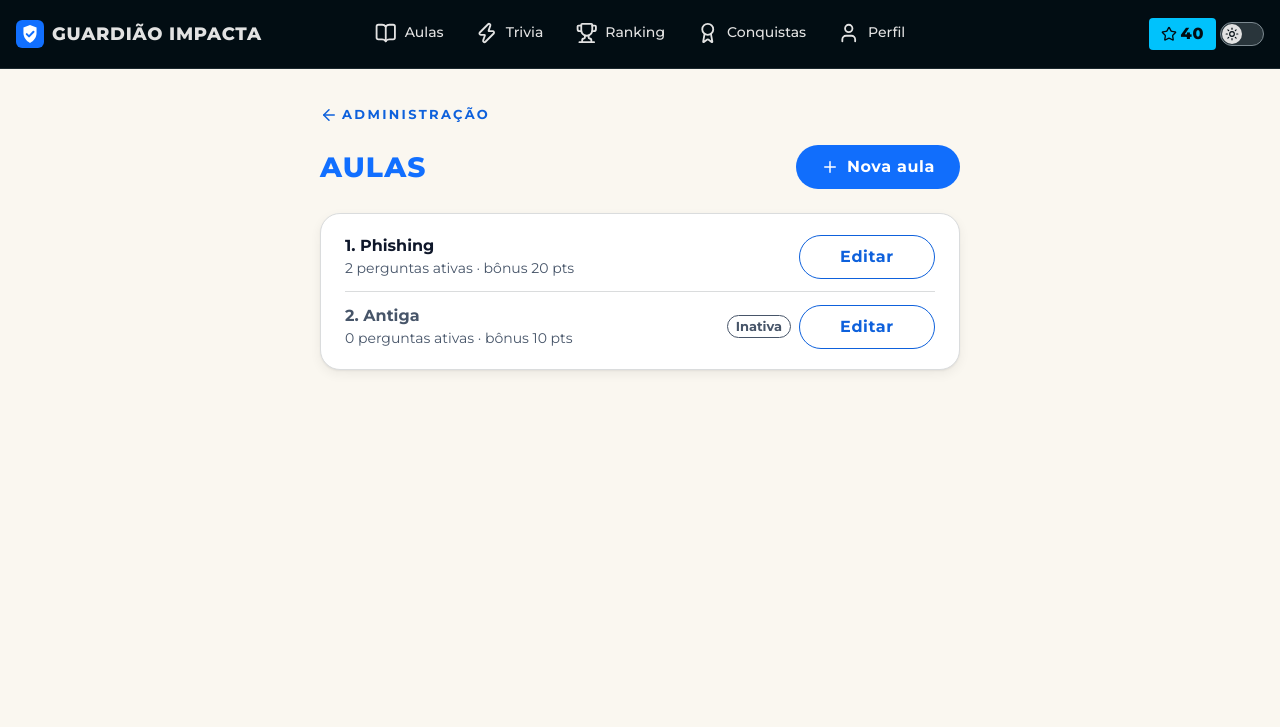
Test: Aulas (admin) › lista com status inativa e cria aula nova indo para a edição
The width and height of the screenshot is (1280, 727).
Expected: the navigation bar named "Navegação principal" is shown, x1=375 y1=22 x2=905 y2=44
Expected: the text "Inativa" is shown, x1=727 y1=315 x2=791 y2=338
Click the button "Nova aula" at (878, 167), box x1=796 y1=145 x2=960 y2=189
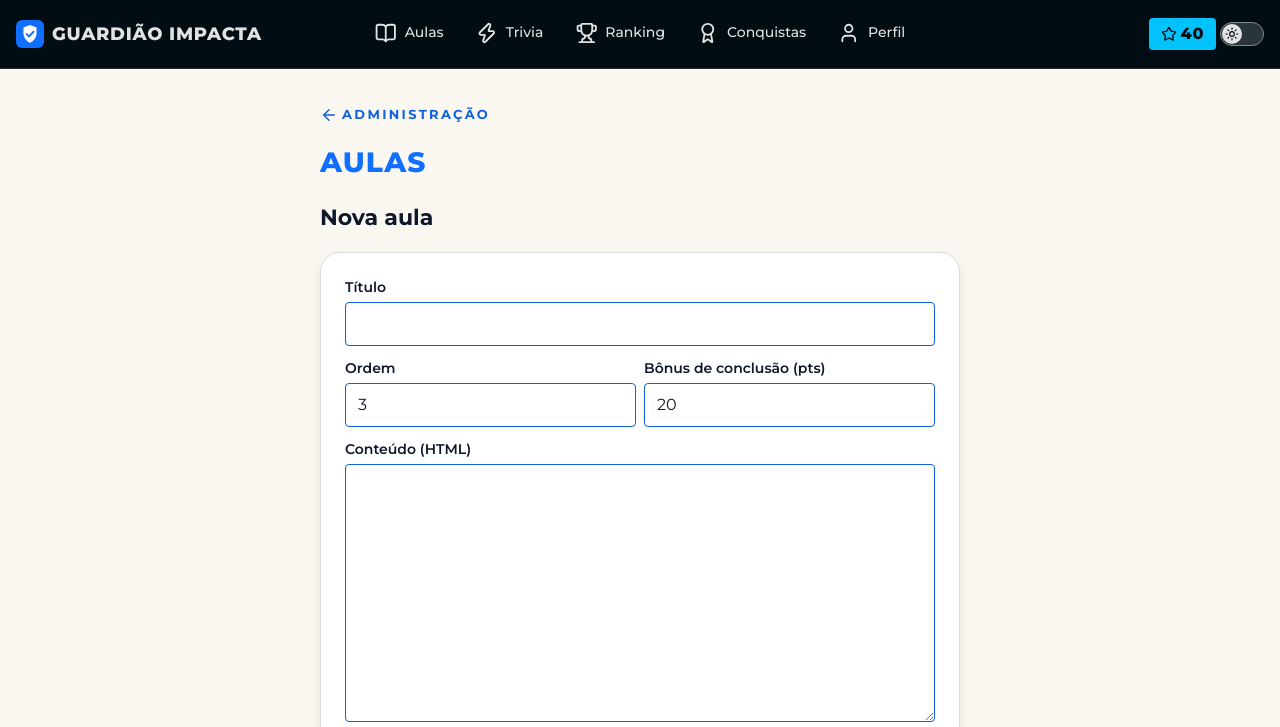
Now the number field labelled "Ordem" holds "3", box x1=345 y1=382 x2=636 y2=426
Type "Engenharia social" into the field labelled "Título" at (640, 324), box x1=345 y1=302 x2=935 y2=346
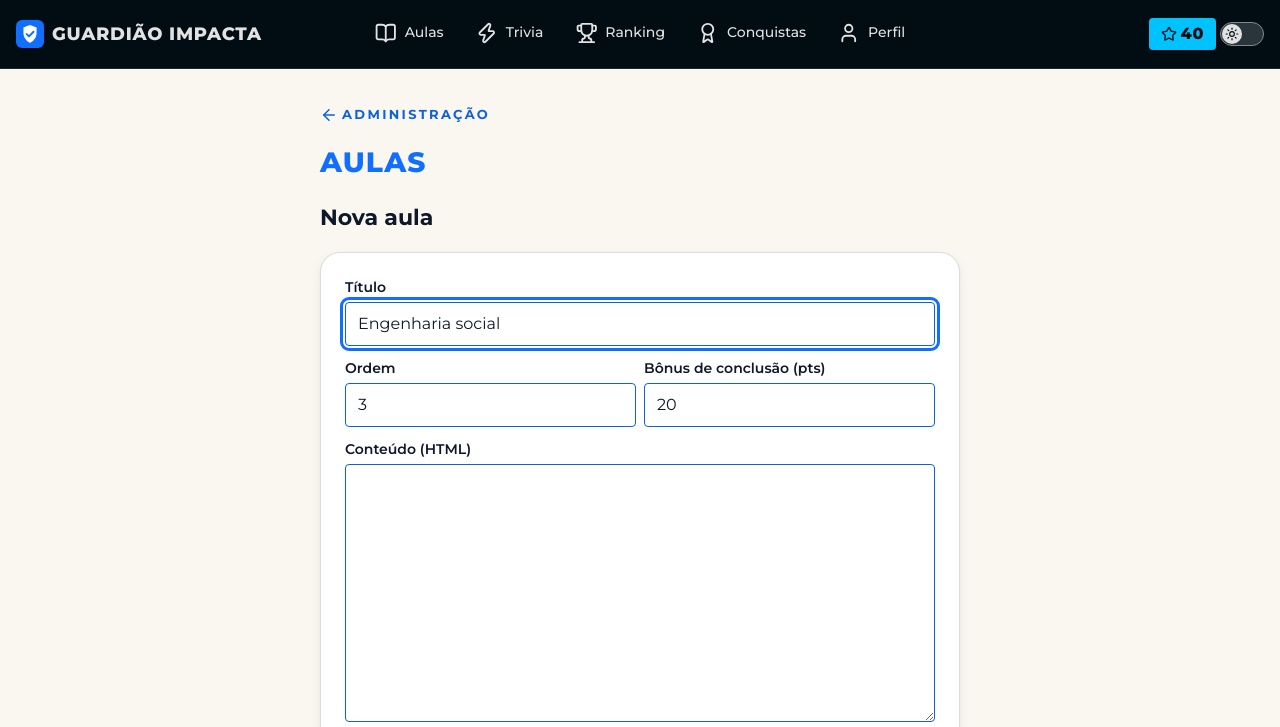
Type "<p>Cuidado</p>" into the text box labelled "Conteúdo (HTML)" at (640, 592), box x1=345 y1=464 x2=935 y2=722
(page scrolled)
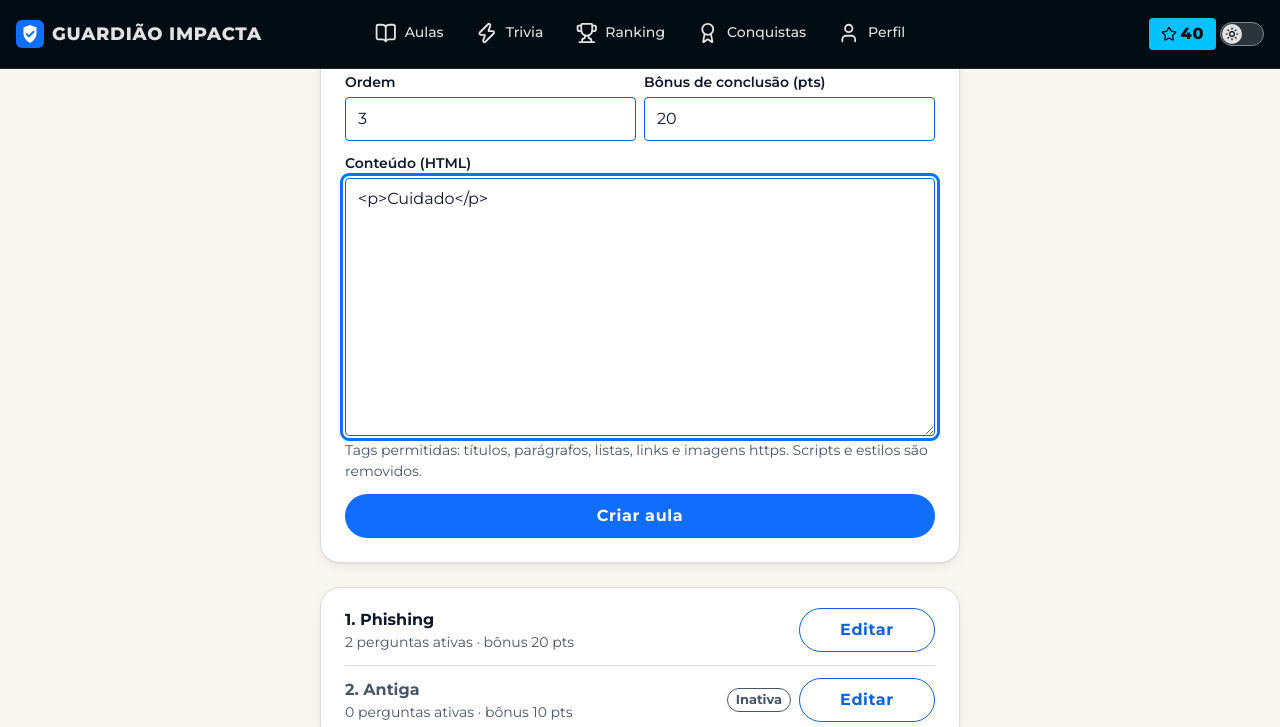
Click the button "Criar aula" at (640, 516), box x1=345 y1=494 x2=935 y2=538
(page scrolled)
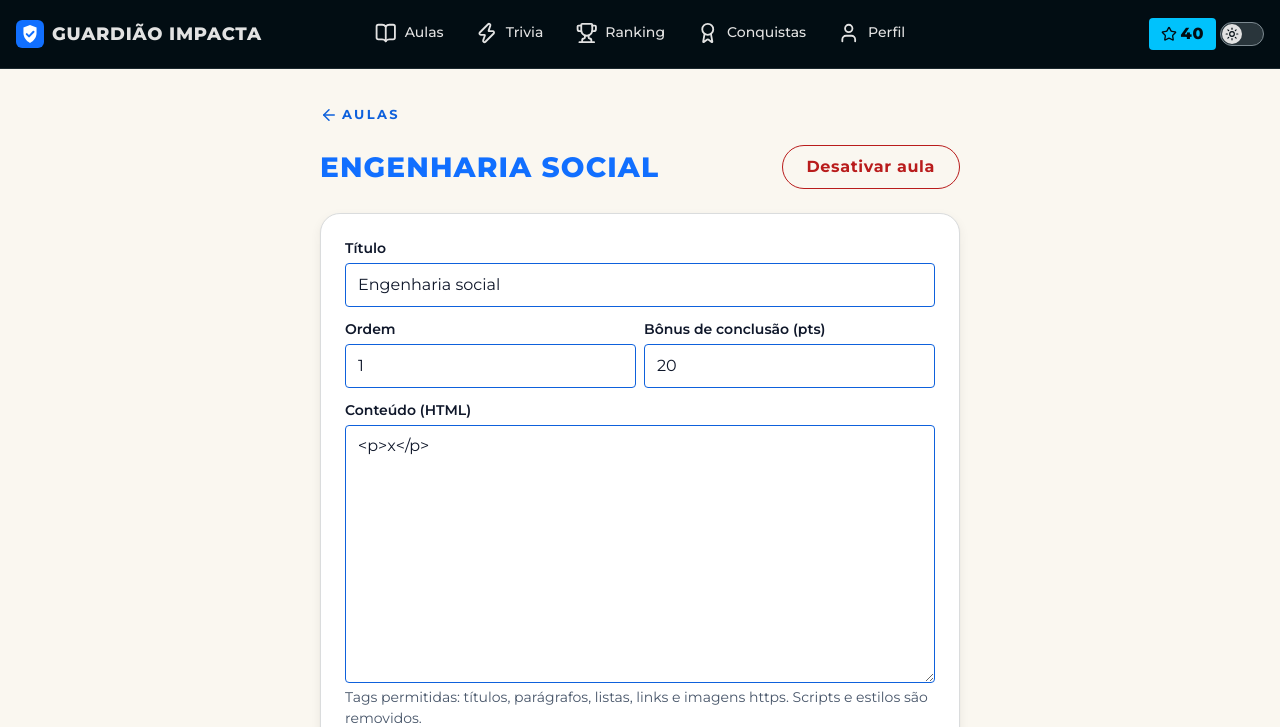
Now the heading "Engenharia social" is shown, box x1=320 y1=150 x2=659 y2=184
